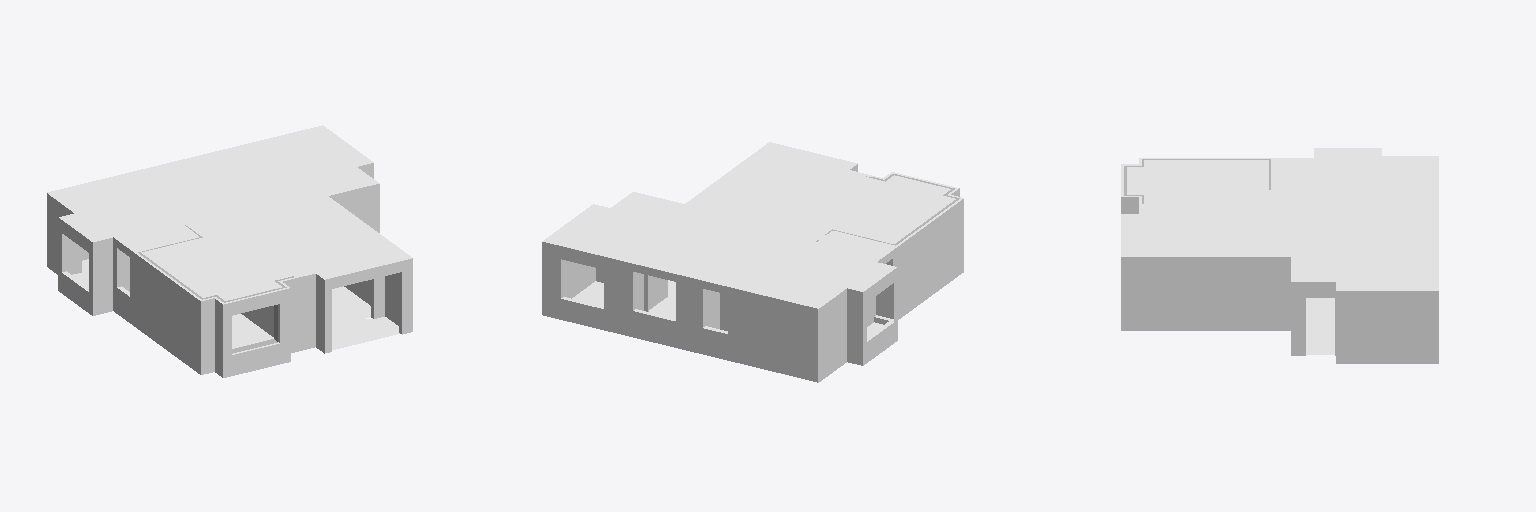
The model's file is render.obj.
3 renders of one model, left to right at view 1: azimuth 30°, elevation 25°; view 2: azimuth 150°, elevation 25°; view 3: azimuth 270°, elevation 25°, orthographic.
Visible parts, largest first — view 1: room_6_346, room_3_340, wall_50_299, room_1_336, wall_6_35, room_5_344, wall_9_53, room_2_338, room_8_350, wall_3_17, room_7_348, wall_27_161 (+13 smaller); view 2: room_6_346, wall_43_257, room_3_340, wall_50_299, wall_41_245, room_1_336, wall_40_239, room_5_344, wall_42_251, wall_1_5, room_2_338, room_8_350 (+6 smaller); view 3: room_6_346, wall_29_173, wall_13_77, room_3_340, room_1_336, wall_28_167, room_5_344, room_8_350, room_2_338, room_6_345, wall_11_65, room_7_348 (+1 smaller).
Boxes of the visible parts, x1,y1,x2,y2 form: room_6_346: [162, 164, 381, 264]; room_3_340: [141, 220, 290, 300]; wall_50_299: [135, 254, 200, 374]; room_1_336: [55, 175, 176, 238]; wall_6_35: [223, 288, 290, 377]; room_5_344: [256, 129, 365, 177]; wall_9_53: [325, 258, 412, 352]; room_2_338: [108, 214, 196, 250]; room_8_350: [286, 243, 404, 276]; wall_3_17: [58, 217, 92, 315]; room_7_348: [182, 146, 273, 179]; wall_27_161: [297, 274, 315, 351]; room_6_346: [616, 162, 848, 265]; wall_43_257: [734, 288, 819, 382]; room_3_340: [792, 175, 955, 243]; wall_50_299: [898, 199, 963, 319]; wall_41_245: [615, 259, 689, 350]; room_1_336: [739, 253, 888, 305]; wall_40_239: [542, 242, 614, 332]; room_5_344: [550, 207, 659, 255]; wall_42_251: [690, 278, 733, 361]; wall_1_5: [820, 289, 846, 381]; room_2_338: [802, 231, 890, 268]; room_8_350: [752, 145, 862, 183]; room_6_346: [1170, 190, 1383, 280]; wall_29_173: [1170, 257, 1290, 330]; wall_13_77: [1336, 291, 1438, 363]; room_3_340: [1127, 160, 1301, 202]; room_1_336: [1320, 150, 1432, 196]; wall_28_167: [1121, 257, 1169, 330]; room_5_344: [1339, 256, 1432, 287]; room_8_350: [1124, 206, 1169, 254]; room_2_338: [1272, 160, 1335, 188]; room_6_345: [1306, 298, 1334, 354]; wall_11_65: [1291, 282, 1335, 355]; room_7_348: [1384, 220, 1432, 253].
Bounding box in the file's own units: 1162 × 280 × 1092.